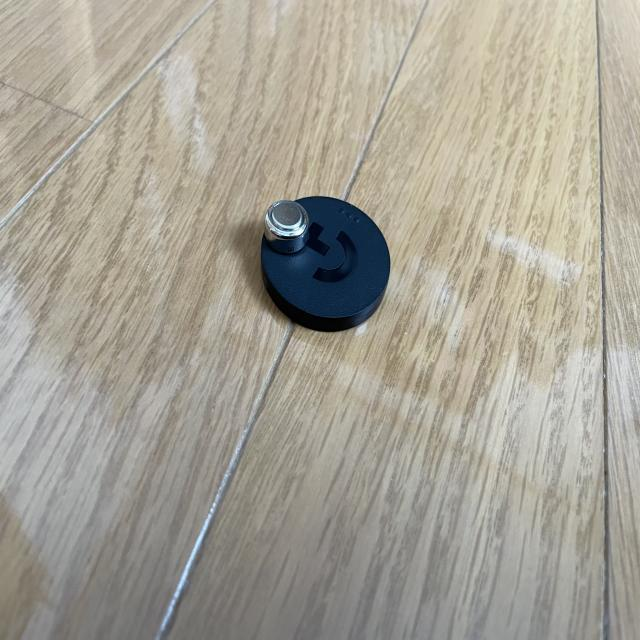COIN: (264, 200, 310, 258)
